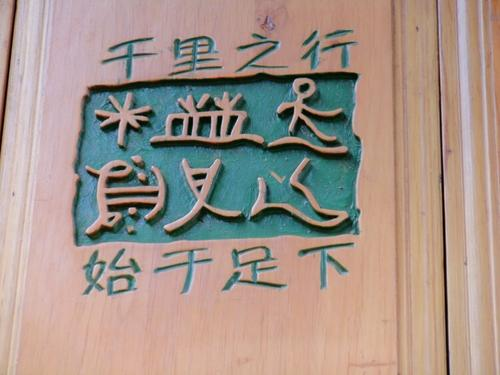chinese: (76, 241, 352, 296), (98, 30, 366, 78)
naxi: (79, 154, 354, 236), (94, 81, 353, 157)
